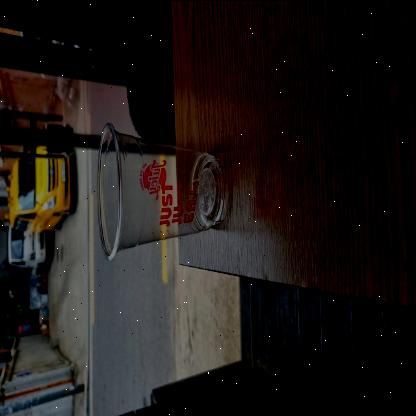Others: (92, 114, 230, 264)
